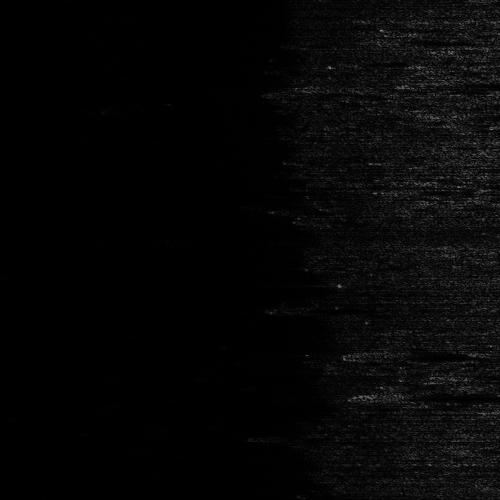rock: (399, 79, 472, 88)
shadow: (436, 79, 500, 88)
